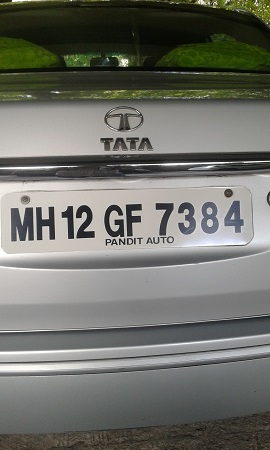licenseplate: (1, 181, 256, 250)
